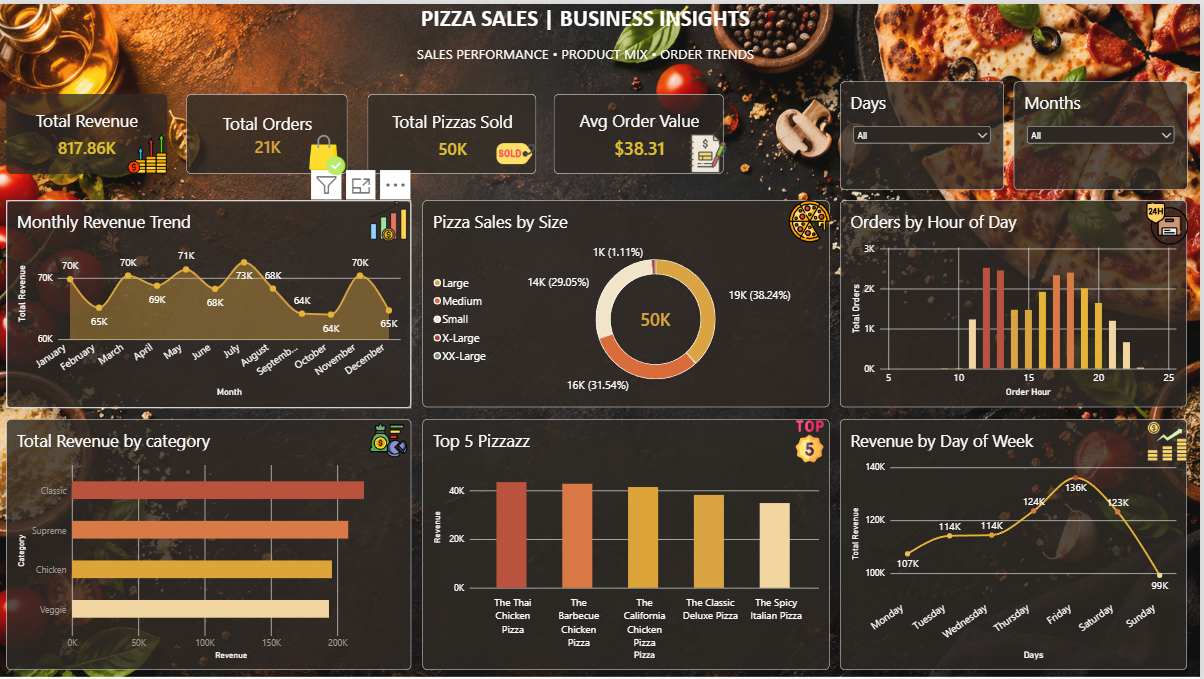

The dashboard page shown, as its layout file describes it:
{"tool":"powerbi","page":{"name":"Pizza","canvas":[1920,1080],"ordinal":0},"visuals":[{"type":"textbox","box":[10,0,1518,166],"z":0},{"type":"cardVisual","fields":{"Data":["pizza_sales.Total Revenue"]},"box":[10,144,258,128],"z":1000},{"type":"cardVisual","title":"Avg. Pizzas per Order","fields":{"Data":["pizza_sales.Average Order Value"]},"box":[886.7,144.8,272,128],"z":2000},{"type":"cardVisual","fields":{"Data":["DateTable.Total Pizzas Sold"]},"box":[588,144,270,128],"z":3000},{"type":"clusteredBarChart","fields":{"Category":["pizza_sales.category"],"Y":["pizza_sales.Total Revenue"]},"box":[10.9,664.1,647.9,401.7],"z":5000},{"type":"donutChart","title":"Pizza Sales by Size","fields":{"Category":["pizza_sales.size"],"Y":["Sum(pizza_sales.quantity)"]},"box":[676.8,314.9,651.5,331.2],"z":6000},{"type":"clusteredColumnChart","title":"Top 5 Pizzazz ","fields":{"Category":["pizza_sales.name"],"Y":["pizza_sales.Total Revenue"]},"box":[676.8,664.1,651.5,401.7],"z":7000},{"type":"clusteredColumnChart","title":"Orders by Hour of Day","fields":{"Category":["pizza_sales.Order Hour"],"Y":["DateTable.Total Orders"]},"box":[1344.6,314.9,555.6,331.2],"z":8000},{"type":"cardVisual","fields":{"Data":["DateTable.Total Orders"]},"box":[298,144,258,128],"z":9000},{"type":"slicer","title":"Months","fields":{"Values":["pizza_sales.order_time.Variation.Date Hierarchy.Month"]},"box":[1621.5,123.1,278.7,173.7],"z":10000},{"type":"lineChart","title":"Revenue by Day of Week","fields":{"Category":["DateTable.Day Name"],"Y":["pizza_sales.Total Revenue"]},"box":[1344.6,664.1,555.6,401.7],"z":11000},{"type":"lineChart","title":"Monthly Revenue Trend","fields":{"Category":["pizza_sales.order_time.Variation.Date Hierarchy.Month"],"Y":["pizza_sales.Total Revenue"]},"box":[10,314,648,332],"z":11001},{"type":"image","box":[202.7,206.3,67,67],"z":11002},{"type":"image","box":[790.8,206.3,67,67],"z":11003},{"type":"image","box":[490.4,208.1,67,67],"z":11004},{"type":"image","box":[1261.3,314.9,67,67],"z":11005},{"type":"image","box":[588.1,314.9,67,67],"z":11006},{"type":"image","box":[1085.8,206.3,92.3,67],"z":11007},{"type":"image","box":[1833.2,318.5,67,67],"z":11008},{"type":"image","box":[588.1,664.1,67,67],"z":11009},{"type":"image","box":[1261.3,666,67,67],"z":11010},{"type":"image","box":[1833.2,666,67,67],"z":11011},{"type":"slicer","title":"Days","fields":{"Values":["DateTable.Day Name"]},"box":[1344.6,123.1,262.4,173.7],"z":11012}]}

Visuals, with their boxes in screenshot pixels (x1, y1, x2, y2), scaled from the page's 1920x1080 canvas onto the 1204x679 screenshot:
textbox: box(6, 0, 958, 104)
cardVisual - pizza_sales.Total Revenue: box(6, 91, 168, 171)
"Avg. Pizzas per Order" cardVisual: box(556, 91, 727, 172)
cardVisual - DateTable.Total Pizzas Sold: box(369, 91, 538, 171)
clusteredBarChart - pizza_sales.category x pizza_sales.Total Revenue: box(7, 418, 413, 670)
"Pizza Sales by Size" donutChart: box(424, 198, 833, 406)
"Top 5 Pizzazz " clusteredColumnChart: box(424, 418, 833, 670)
"Orders by Hour of Day" clusteredColumnChart: box(843, 198, 1192, 406)
cardVisual - DateTable.Total Orders: box(187, 91, 349, 171)
"Months" slicer: box(1017, 77, 1192, 187)
"Revenue by Day of Week" lineChart: box(843, 418, 1192, 670)
"Monthly Revenue Trend" lineChart: box(6, 197, 413, 406)
image: box(127, 130, 169, 172)
image: box(496, 130, 538, 172)
image: box(308, 131, 350, 173)
image: box(791, 198, 833, 240)
image: box(369, 198, 411, 240)
image: box(681, 130, 739, 172)
image: box(1150, 200, 1192, 242)
image: box(369, 418, 411, 460)
image: box(791, 419, 833, 461)
image: box(1150, 419, 1192, 461)
"Days" slicer: box(843, 77, 1008, 187)
